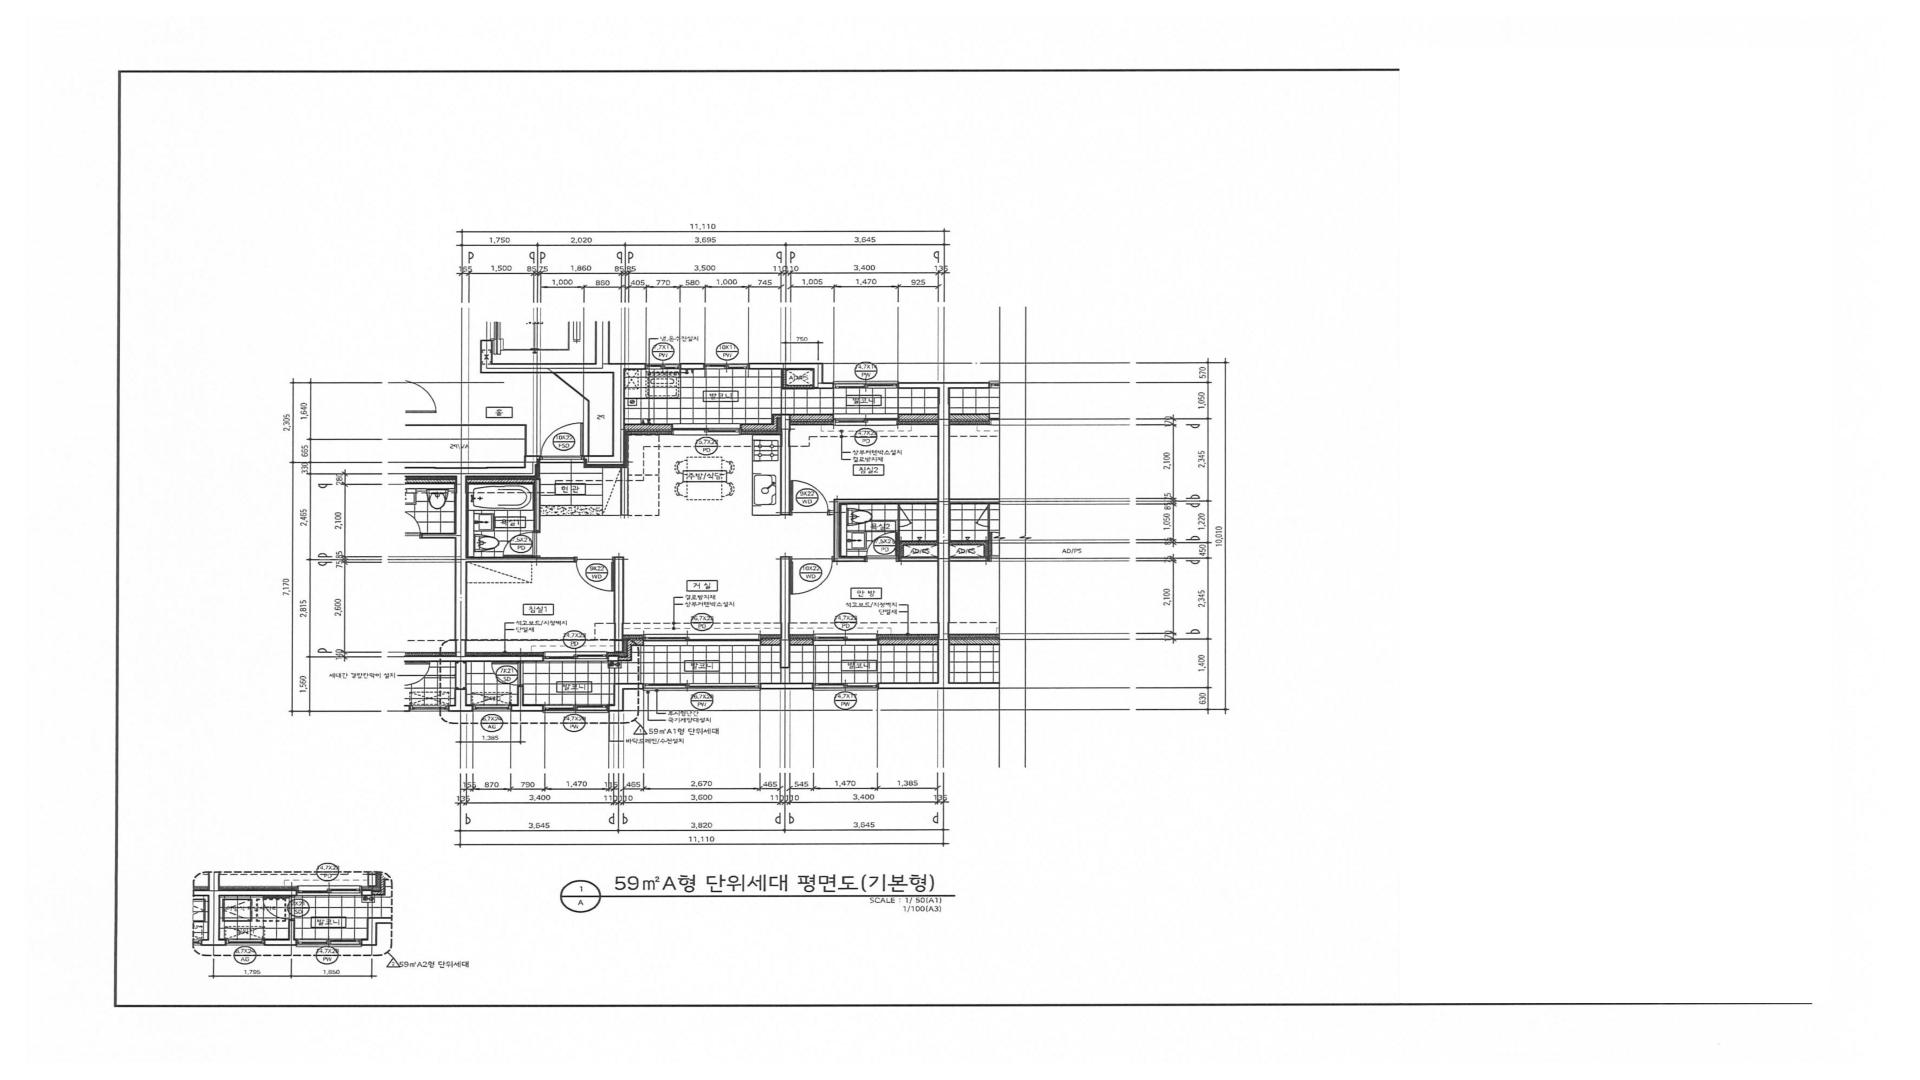door: (539, 422, 584, 460), (790, 556, 835, 595), (574, 556, 615, 592), (790, 480, 829, 516), (502, 530, 541, 558), (865, 531, 898, 562), (491, 662, 524, 687), (898, 504, 913, 527)
wall: (938, 382, 949, 682), (455, 476, 467, 655), (612, 373, 625, 464), (781, 556, 790, 683), (492, 363, 595, 373), (553, 373, 589, 401), (456, 462, 525, 476), (781, 414, 790, 516), (615, 556, 624, 651), (595, 322, 609, 373), (829, 498, 840, 556), (455, 655, 543, 662), (467, 558, 574, 563), (840, 498, 938, 504), (455, 662, 467, 704), (878, 682, 949, 688), (480, 340, 493, 373), (749, 363, 812, 369), (878, 638, 938, 645), (609, 363, 646, 373), (620, 468, 628, 516), (625, 423, 673, 431), (467, 479, 535, 484), (790, 414, 833, 422), (761, 683, 812, 690), (534, 479, 541, 530), (524, 455, 539, 476), (898, 382, 938, 389), (584, 455, 612, 464), (512, 704, 543, 712), (741, 423, 771, 431), (613, 683, 624, 704), (812, 363, 823, 382), (898, 556, 938, 562), (833, 556, 865, 562), (680, 363, 705, 369), (405, 425, 526, 426), (790, 638, 814, 645), (455, 704, 473, 712), (587, 401, 589, 455), (812, 382, 833, 389), (760, 638, 781, 645), (903, 541, 938, 545), (624, 683, 644, 690), (609, 704, 624, 712), (517, 687, 524, 704), (781, 369, 786, 389), (786, 385, 812, 389), (626, 638, 632, 657), (632, 638, 644, 646), (898, 541, 903, 556), (771, 418, 777, 431), (608, 655, 618, 661), (618, 657, 632, 661), (525, 426, 526, 455), (771, 414, 781, 418), (898, 527, 899, 541)
window: (644, 634, 760, 646), (644, 683, 761, 691), (833, 413, 898, 426), (673, 423, 741, 435), (814, 634, 878, 646), (543, 651, 608, 662), (543, 704, 609, 713), (812, 683, 878, 691), (833, 381, 898, 389), (705, 363, 749, 369), (473, 704, 512, 711), (646, 363, 680, 369)
